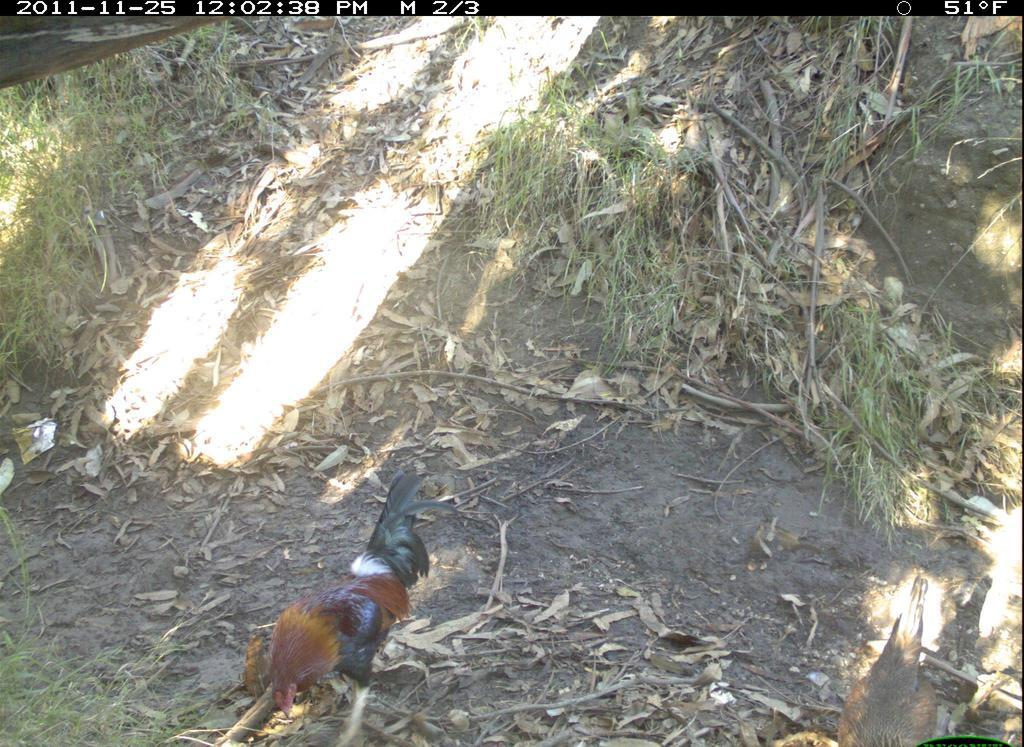bird: (838, 569, 944, 747)
